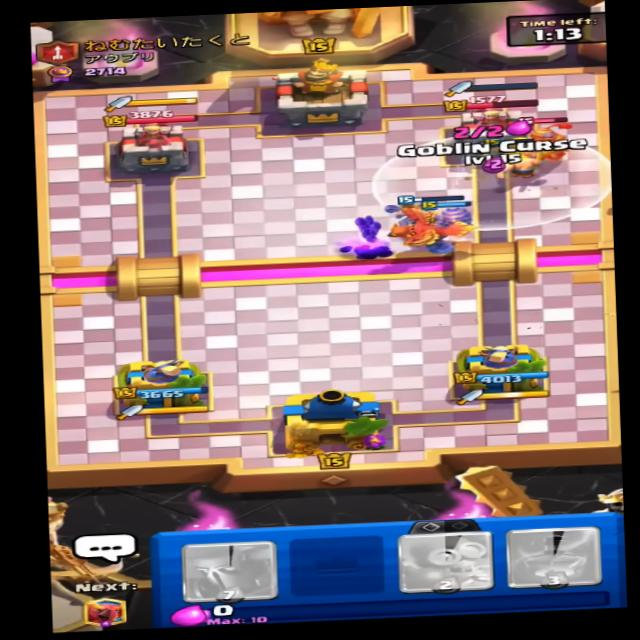prince: (506, 113, 583, 166)
